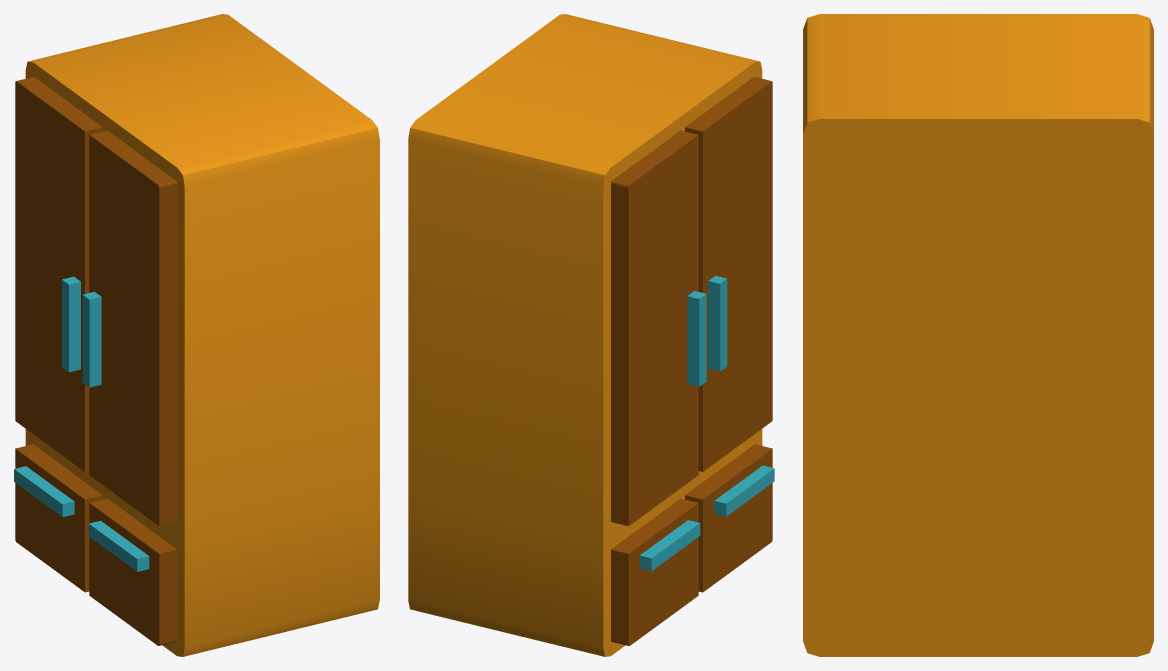
Rendered from Armario.fbx.
3 renders of one model, left to right at view 1: azimuth 30°, elevation 25°; view 2: azimuth 150°, elevation 25°; view 3: azimuth 270°, elevation 25°, orthographic. The views are drawn at different scales.
Visible parts, largest first — view 1: Box004; view 2: Box004; view 3: Box004.
Part boxes in pixels (x1=…): Box004: x1=14, y1=14, x2=379, y2=656; Box004: x1=408, y1=14, x2=774, y2=656; Box004: x1=803, y1=14, x2=1153, y2=656.
Size of the model in its own units: 44.75 by 92.83 by 54.83.
